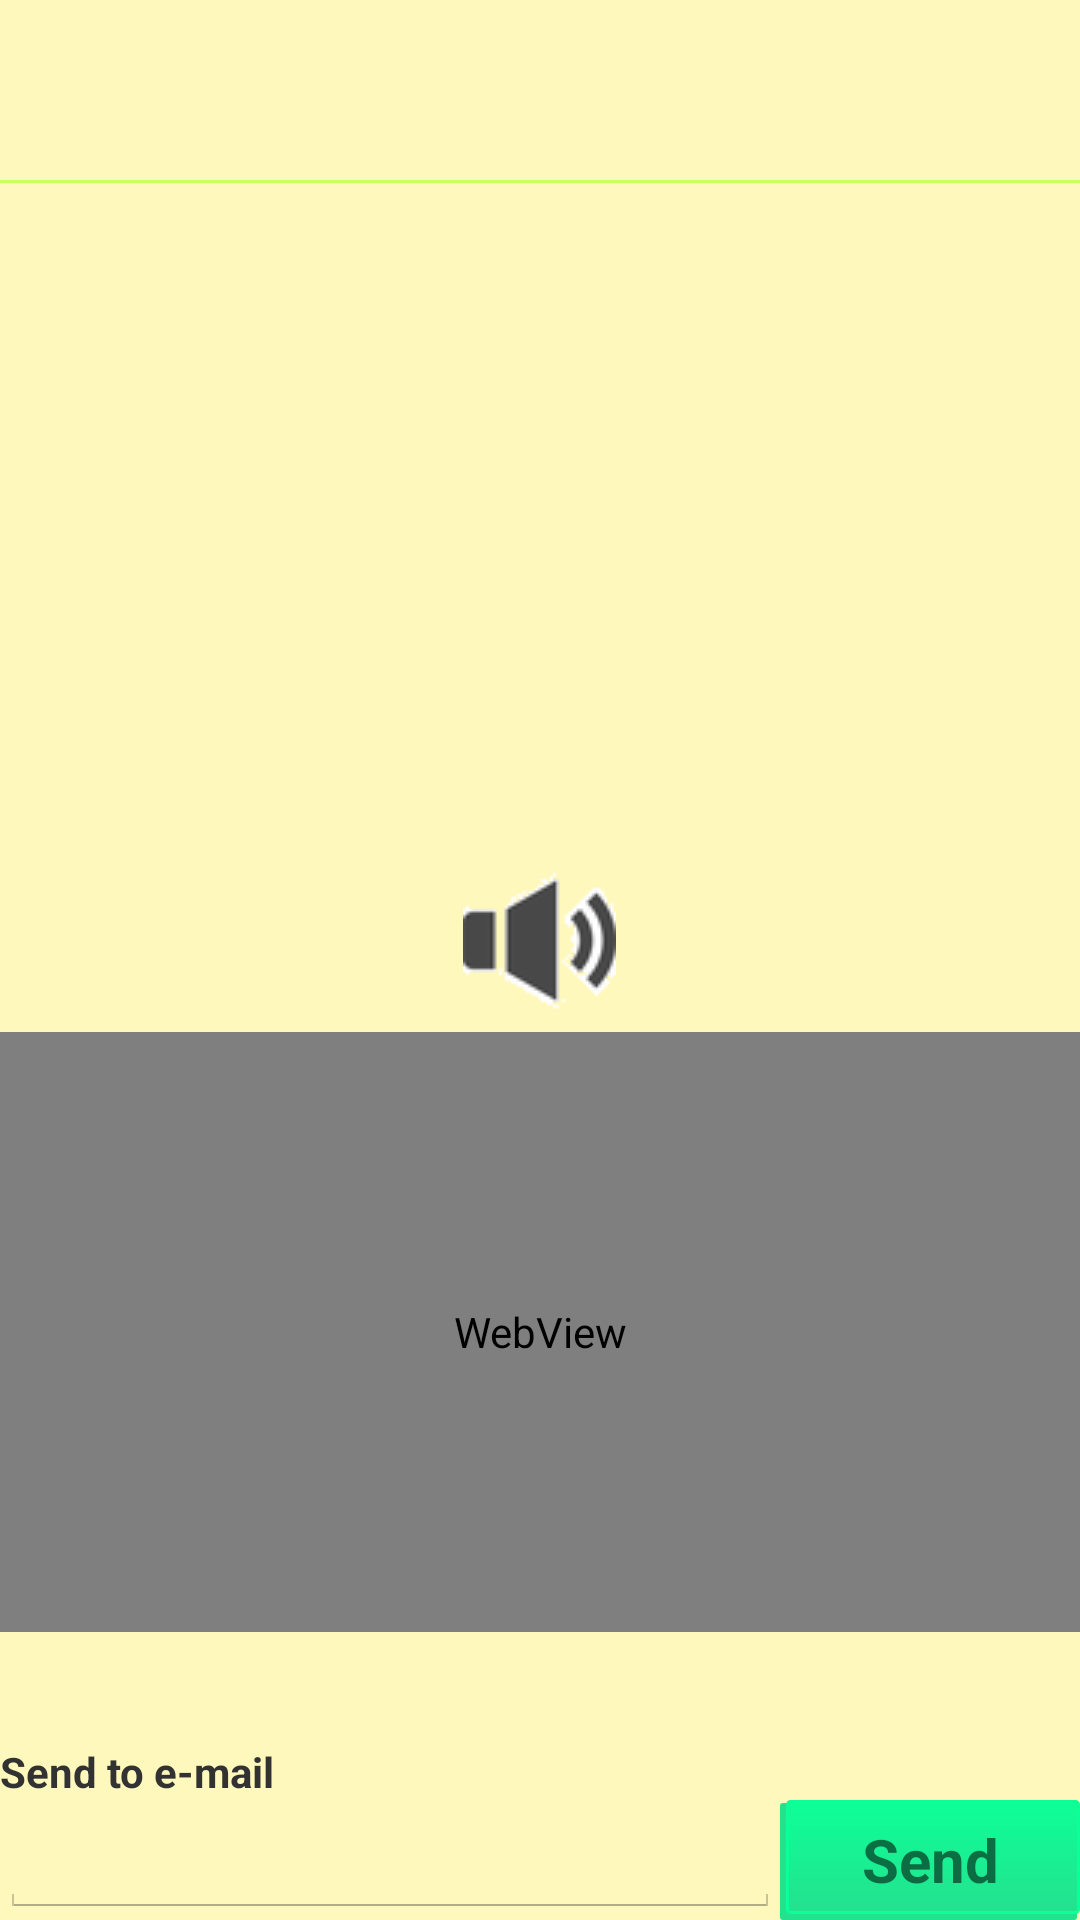

Icon click points for this 1080*1920 phone screenshot, format (x=x, y=y):
listen: (x=539, y=940)
